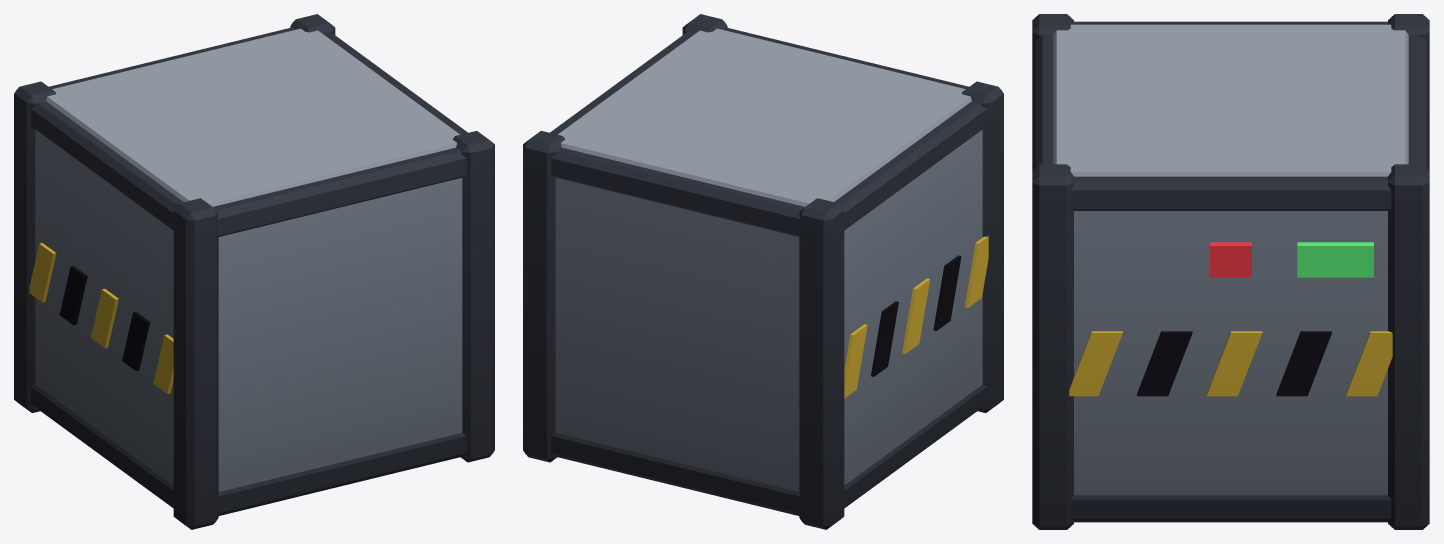
The model's file is lab_crate.glb.
3 views of the same model, side by side, from view 1: azimuth 30°, elevation 25°; view 2: azimuth 150°, elevation 25°; view 3: azimuth 270°, elevation 25° (orthographic). The views are drawn at different scales.
Visible parts, largest first — view 1: Body; view 2: Body; view 3: Body, Glow.
Boxes of the visible parts, x1,y1,x2,y2 form: Body: (14, 14, 494, 529); Body: (523, 14, 1003, 529); Body: (1032, 14, 1429, 529); Glow: (1210, 242, 1373, 277).
Size of the model in its own units: 1.14 by 1.12 by 1.14.
